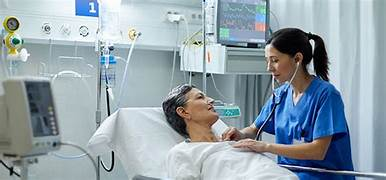Doctor: (261, 24, 317, 119)
patient: (162, 82, 230, 157)
